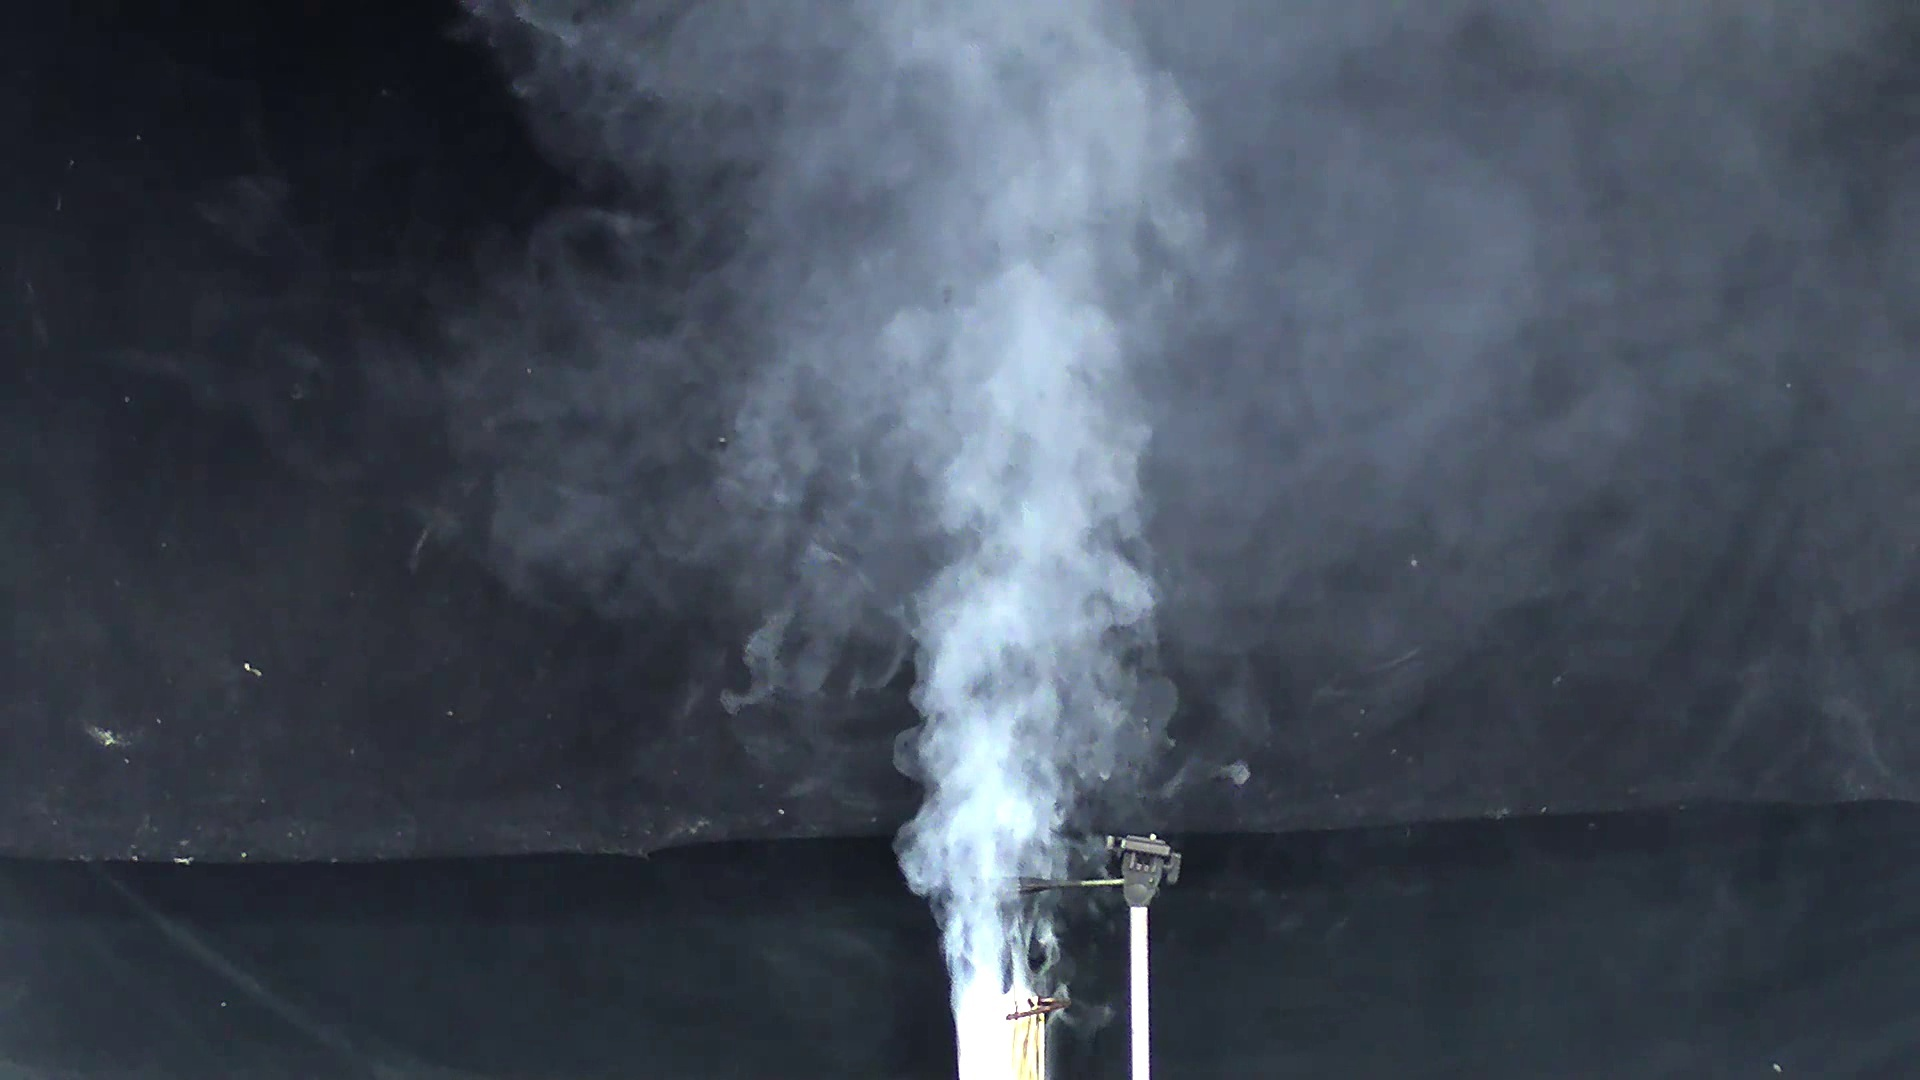smoke: (622, 88, 1311, 928)
